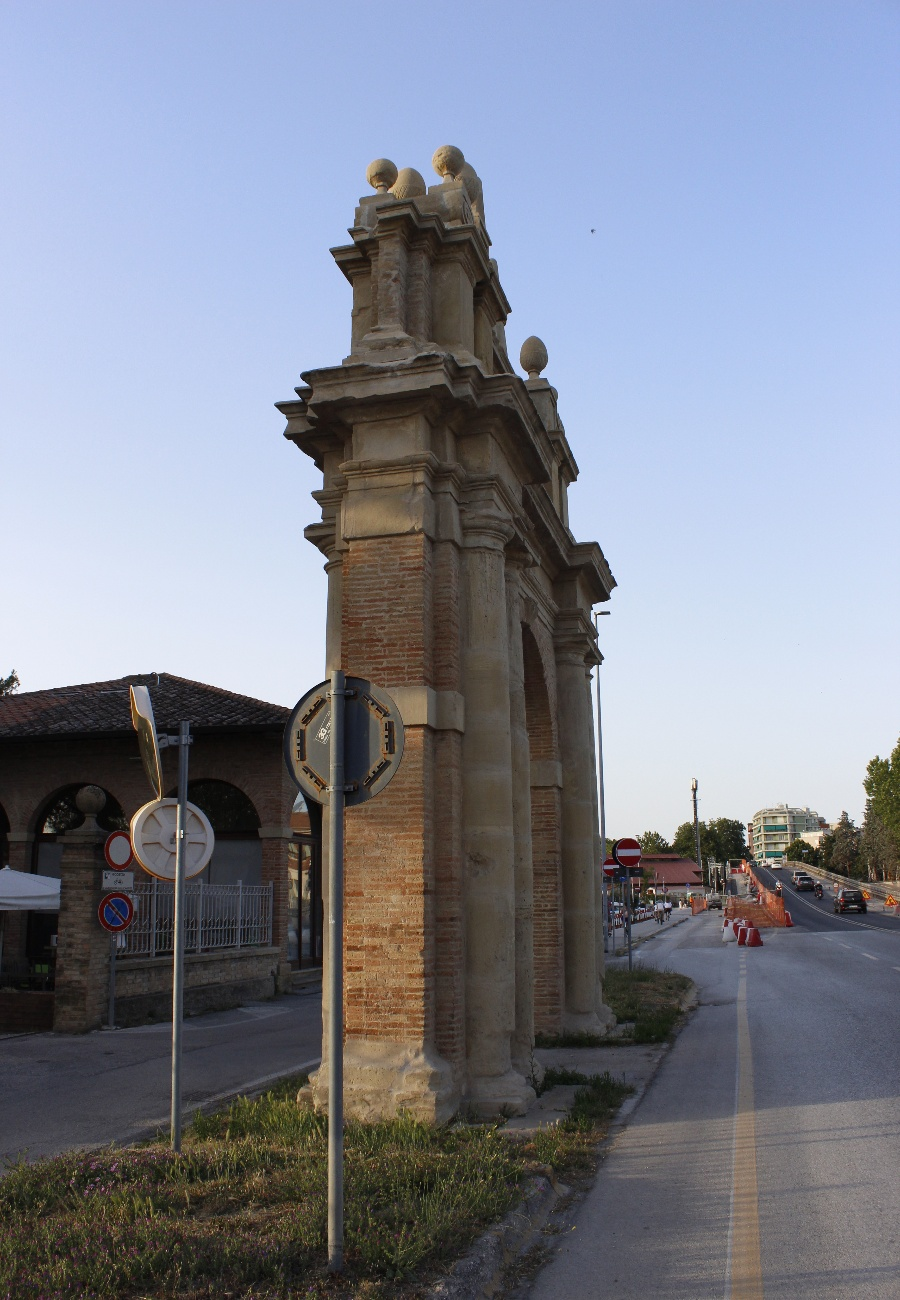Arco di Trionfo: (273, 146, 620, 1133)
